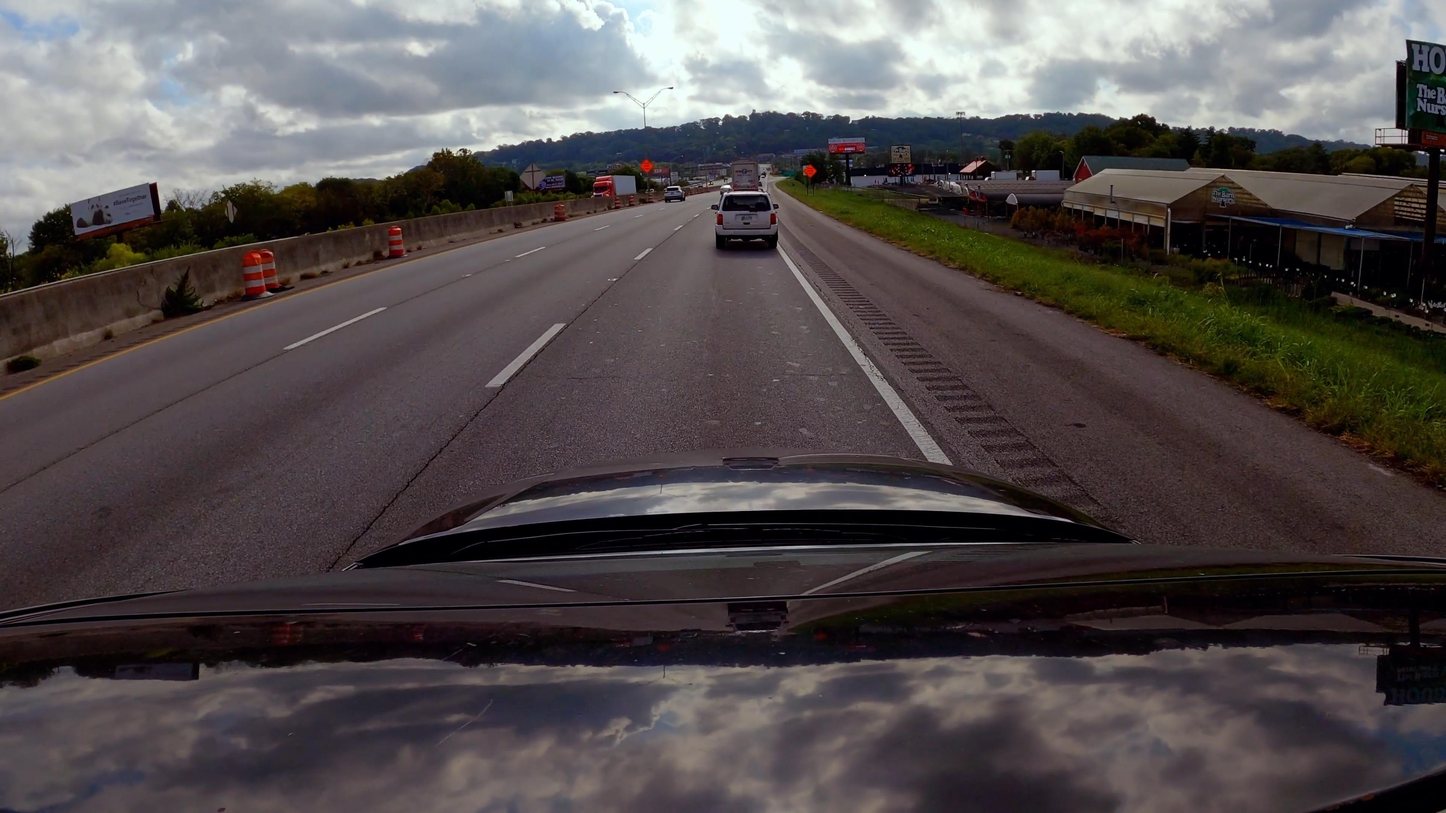dry: (0, 182, 1446, 611)
